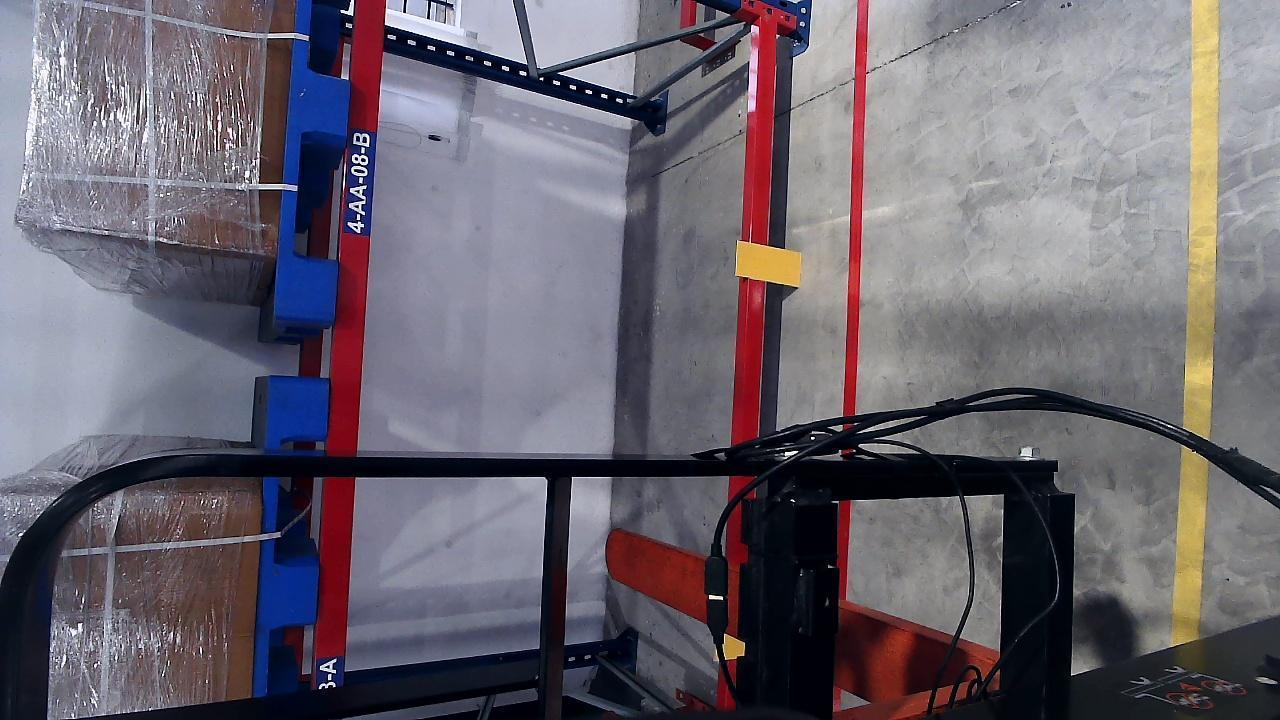red_line: (842, 6, 868, 416)
yellow_line: (1169, 0, 1221, 642)
